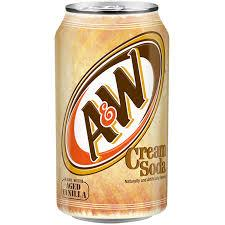Aluminum can: (46, 0, 183, 221)
